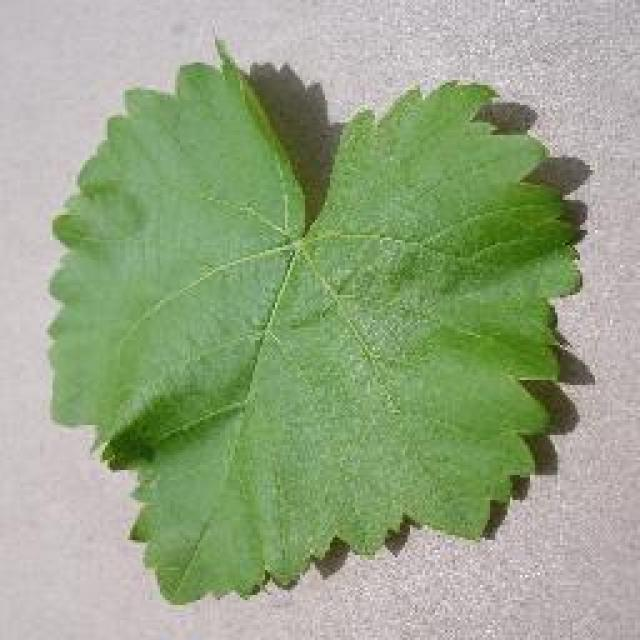Grape___healthy: (50, 46, 578, 602)
